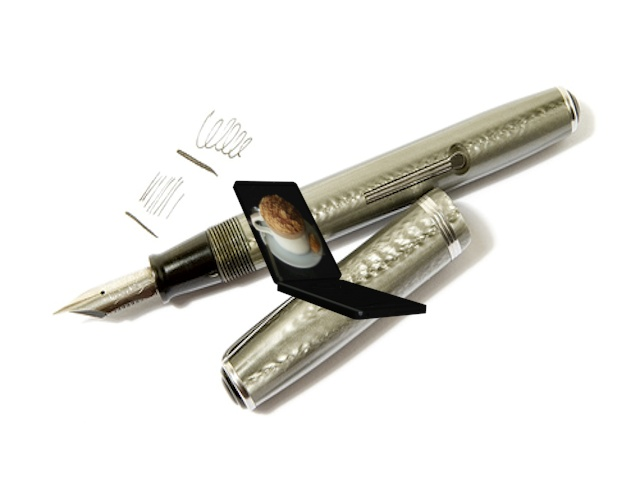mobile_phone: (233, 177, 432, 328)
